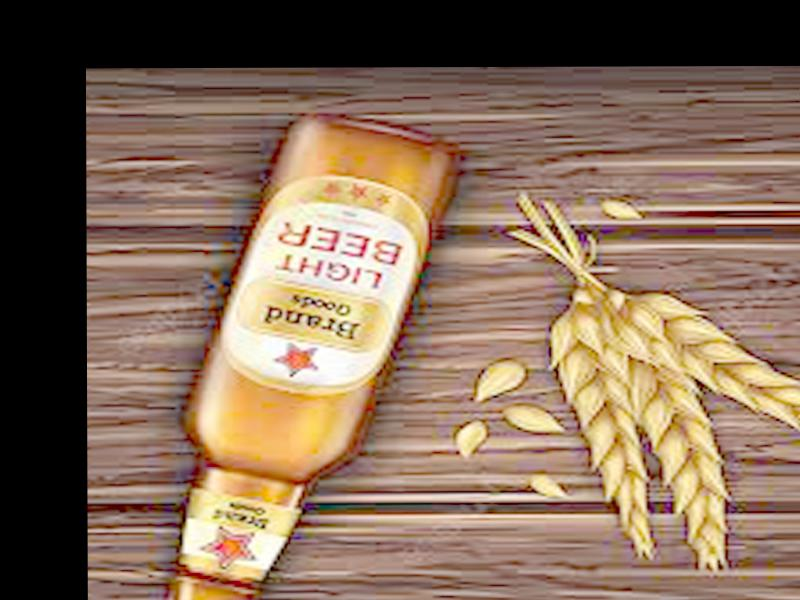Beer: (153, 117, 457, 600)
